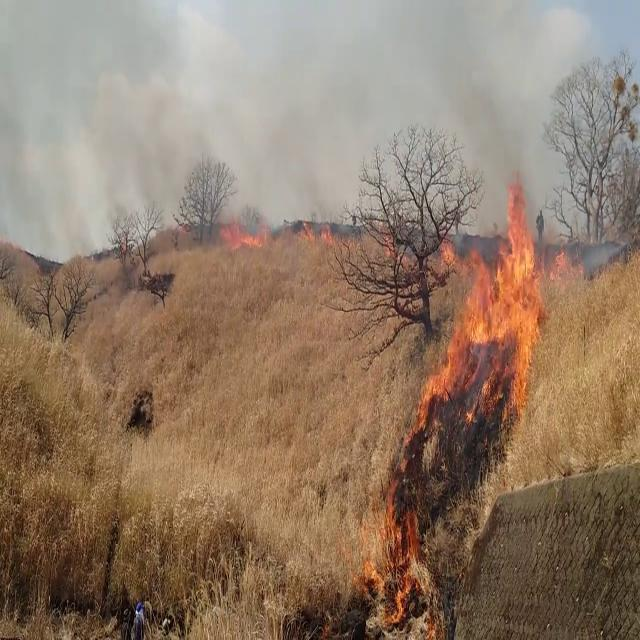Fire: (421, 174, 550, 417), (220, 215, 268, 252)
Smoke: (9, 0, 238, 254)
